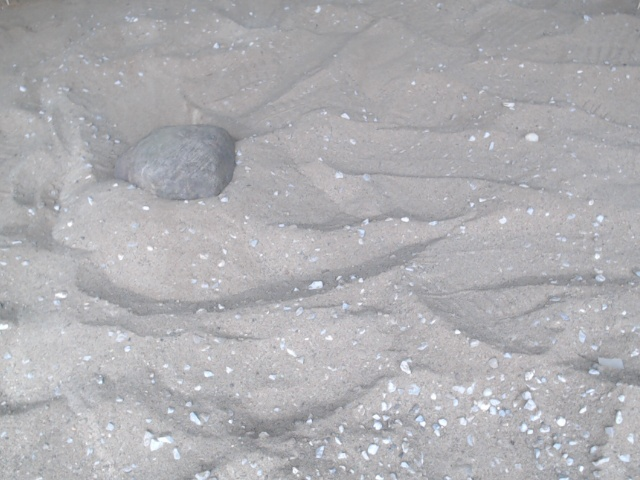rock: (106, 118, 242, 209)
